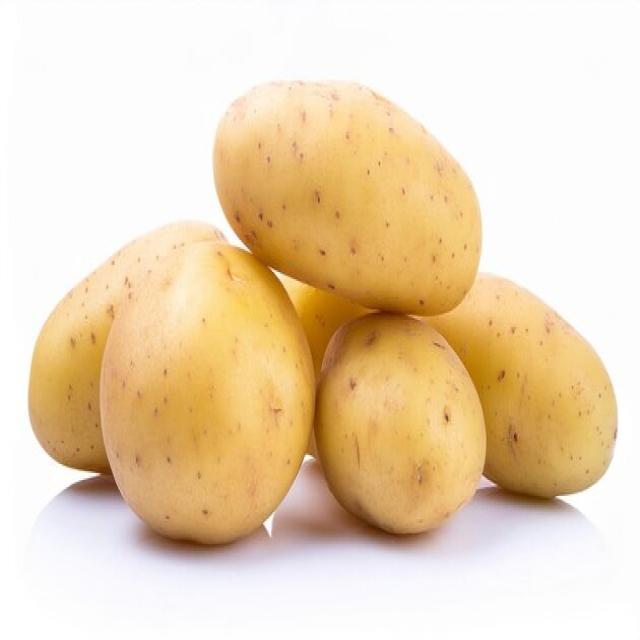Potato: (98, 238, 315, 544), (212, 76, 482, 316), (28, 218, 226, 474), (420, 270, 618, 500), (313, 311, 486, 535), (274, 270, 379, 459)
